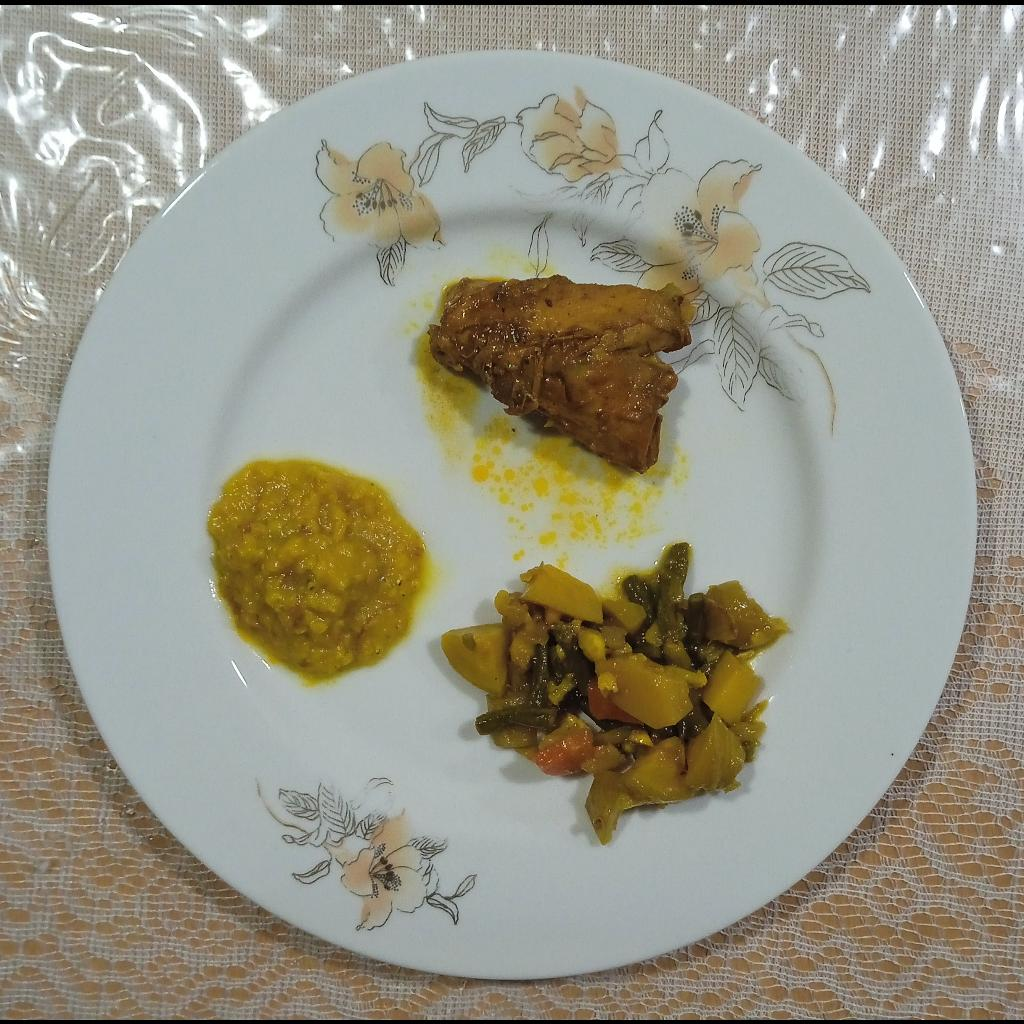chicken: (426, 273, 698, 477)
daal: (208, 461, 427, 681)
vegetable: (441, 541, 788, 849)
